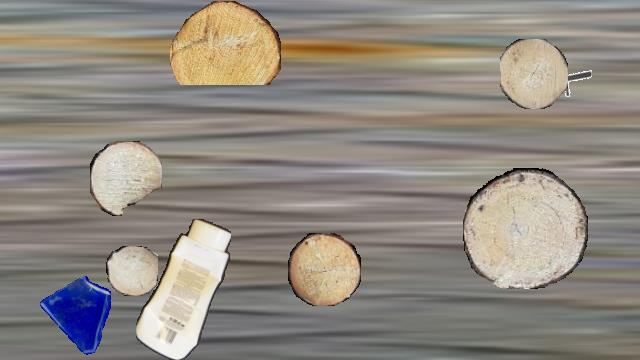glass: (36, 275, 120, 359)
metal: (554, 61, 592, 99), (0, 52, 2, 104)
plastic: (136, 219, 230, 359)
wood: (463, 168, 587, 288), (170, 1, 280, 85), (90, 141, 162, 215), (288, 233, 360, 305), (500, 39, 568, 109), (106, 246, 158, 296)
